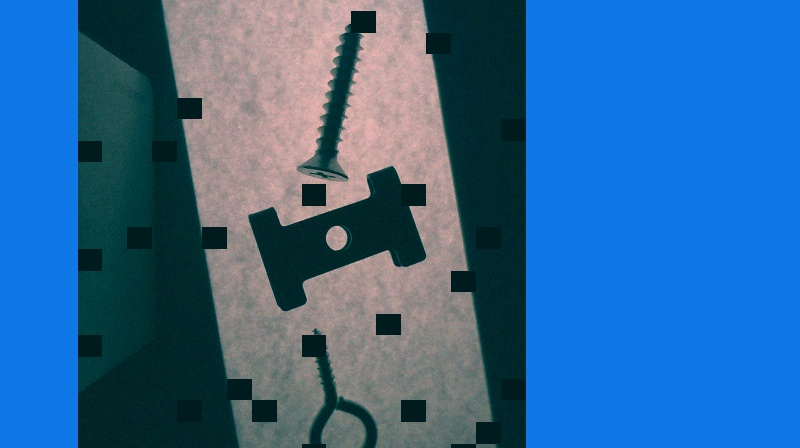O001: (304, 326, 378, 447)
O002: (248, 161, 425, 311)
S001: (295, 16, 362, 187)
